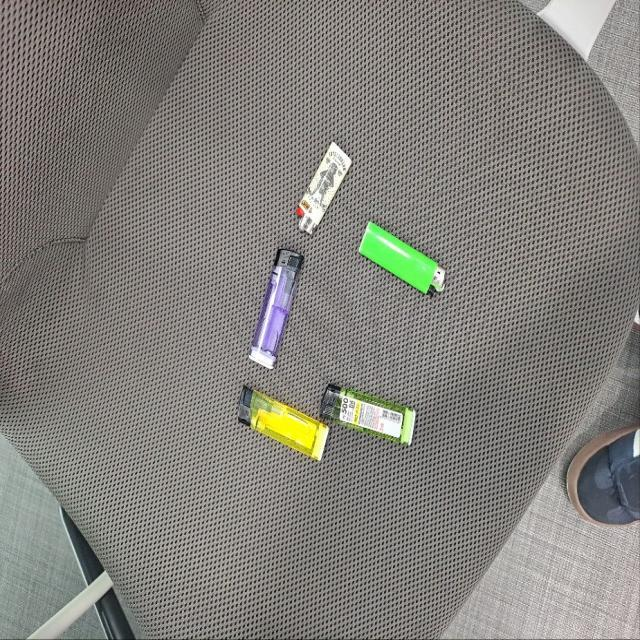lighter: (233, 381, 329, 471), (246, 244, 312, 371), (356, 215, 448, 299), (318, 381, 424, 448), (293, 138, 357, 240)
